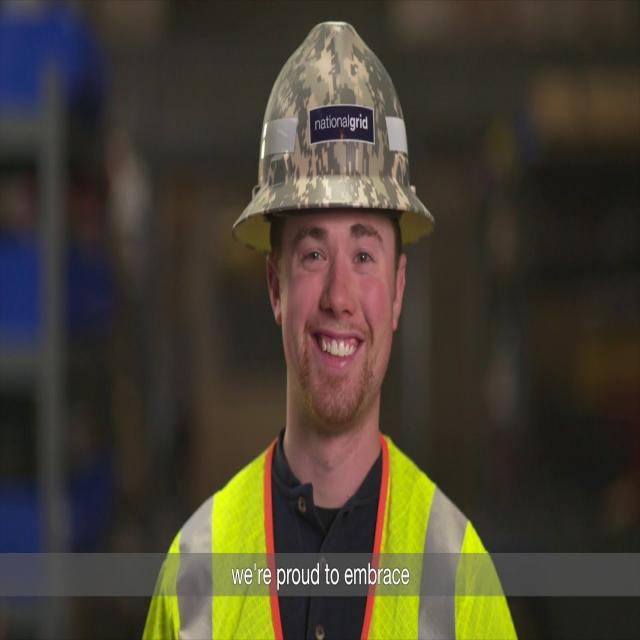Reflective-Jacket: (144, 438, 516, 640)
Safety-Helmet: (231, 18, 433, 254)
